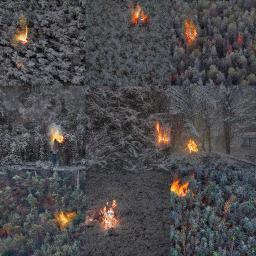Small fire: (180, 17, 209, 50), (92, 205, 126, 232), (13, 22, 33, 46), (51, 206, 76, 225), (128, 7, 155, 23), (146, 129, 173, 144), (169, 176, 192, 193), (185, 138, 205, 154), (47, 126, 64, 143)
